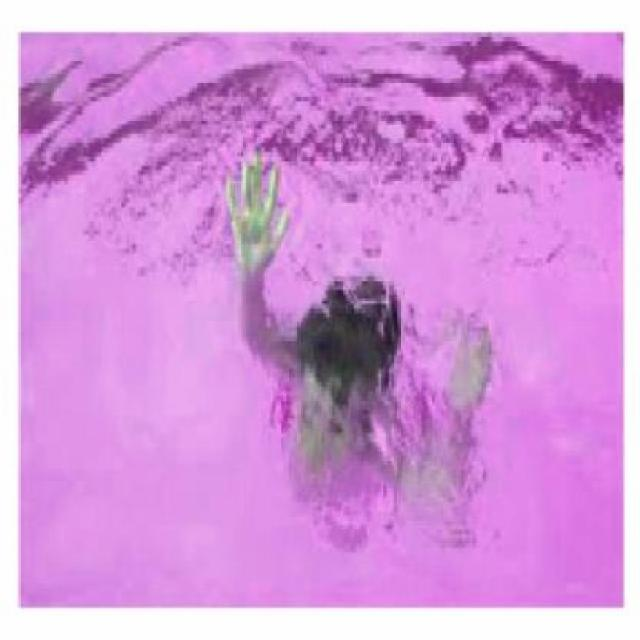drowning: (223, 169, 483, 506)
